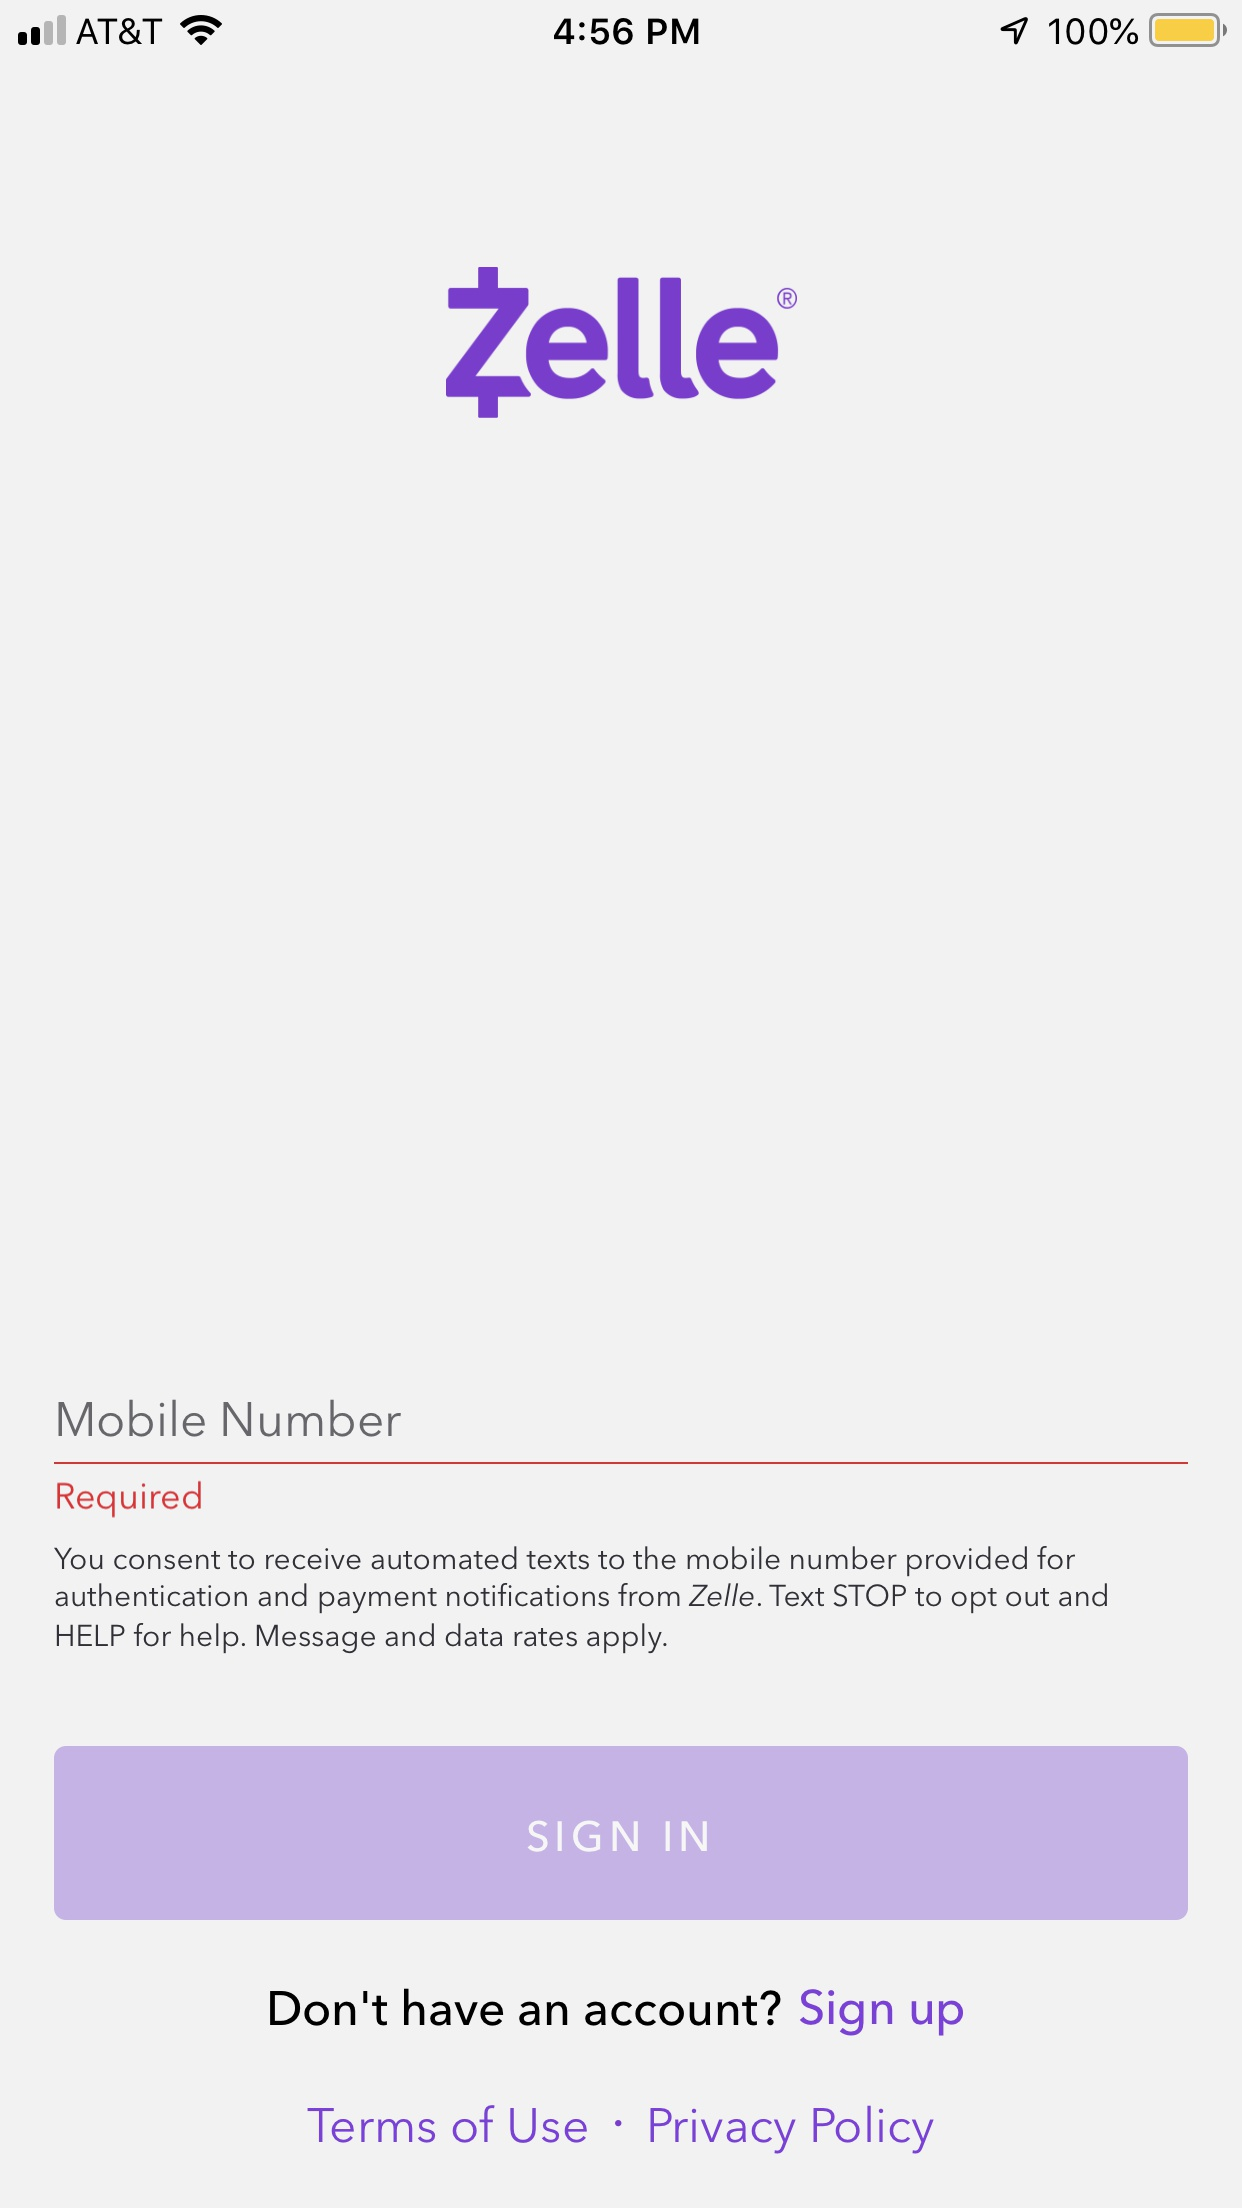EditText: (55, 1398, 1189, 1465)
Image: (444, 265, 799, 420)
Text: (55, 1545, 1109, 1654), (268, 1987, 964, 2037), (306, 2103, 936, 2155), (58, 1398, 403, 1439), (58, 1480, 203, 1520)
TextButton: (55, 1745, 1189, 1921)
UpperTaskBar: (2, 2, 1242, 49)
